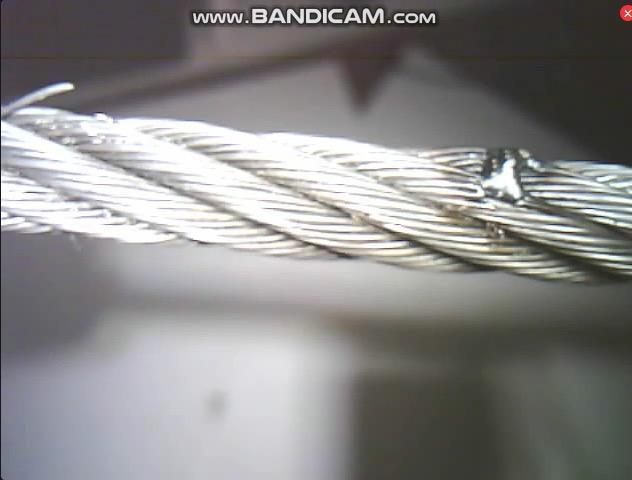break: (0, 81, 87, 131)
thunderbolt: (439, 136, 570, 228)
